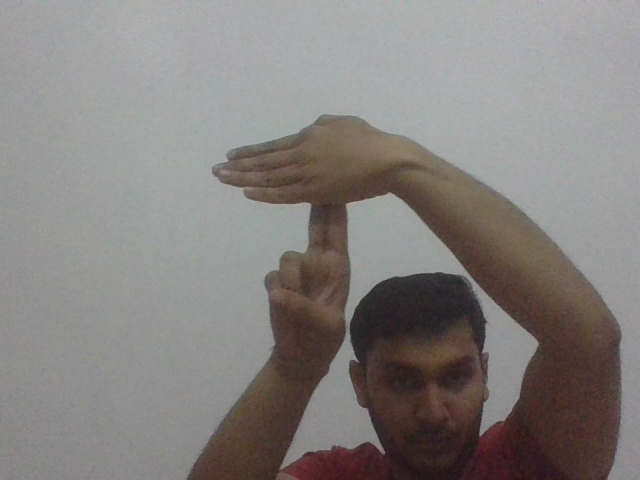N: (208, 113, 389, 258)
